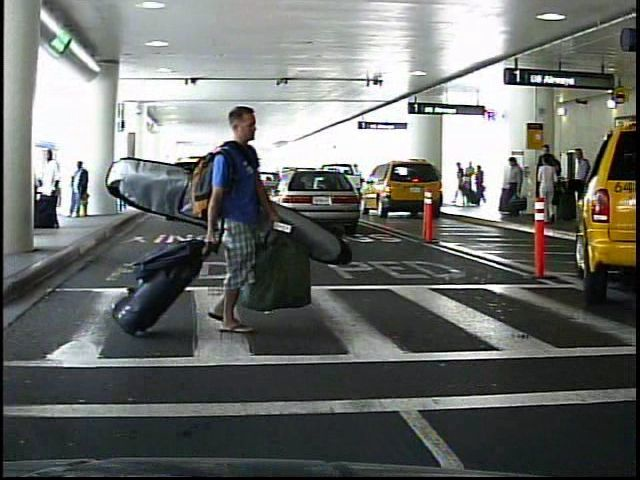person: (204, 99, 294, 354), (31, 146, 64, 231), (567, 145, 593, 224), (68, 158, 96, 225), (536, 143, 558, 220), (538, 155, 560, 225), (503, 158, 525, 221), (454, 160, 468, 208), (465, 161, 477, 208), (473, 162, 485, 206)
